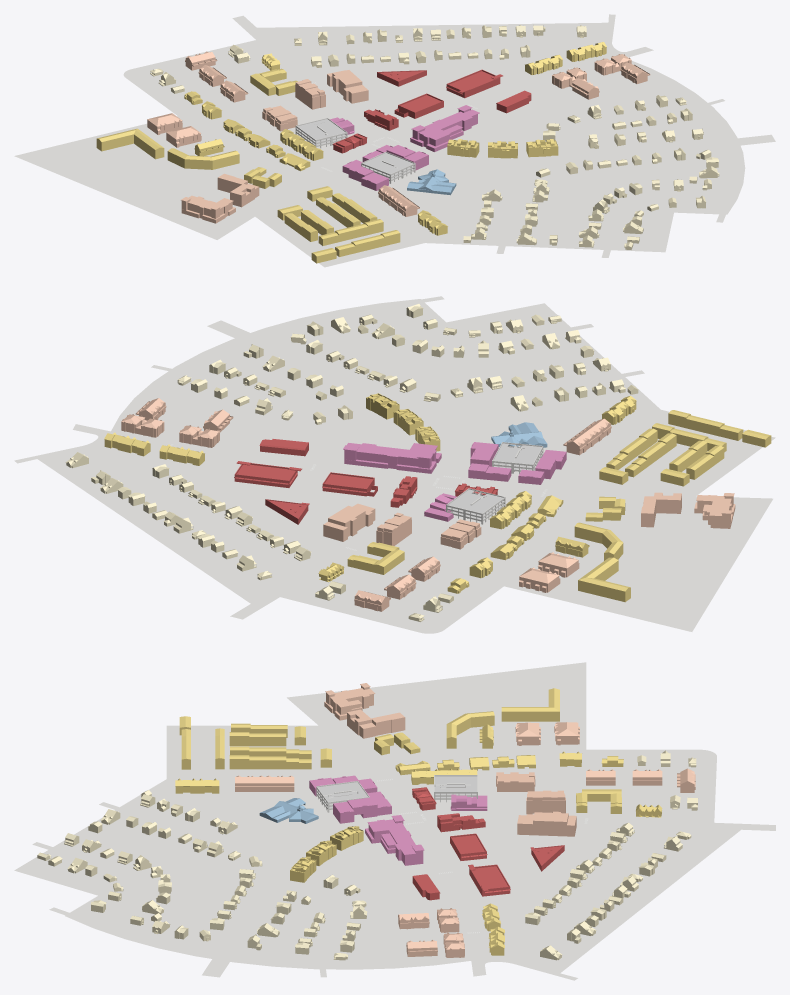
The model's file is Neighborhood2_CC.glb.
3 views of the same model, one above another, from view 1: azimuth 30°, elevation 25°; view 2: azimuth 150°, elevation 25°; view 3: azimuth 270°, elevation 25° (orthographic). The views are drawn at different scales.
Visible parts, largest first — view 1: Group1.006, Multifamily_2_1.001, Group11.006, Multifamily_2_1_1.002, Group12.006, Multifamily_7_1.002, retail3_1_1, Multifamily_8_1, tomehomes_3_1, tomehomes_3_2, church_1_1, retail2_1_1 (+12 smaller); view 2: Group1.006, Multifamily_2_1.001, Group11.006, Multifamily_7_1.002, retail3_1_1, Multifamily_2_1_1.002, tomehomes_3_2, retail2_1_1, Multifamily_8_1, Group12.006, church_1_1, tomehomes2 (+12 smaller); view 3: Group1.006, Multifamily_2_1.001, Multifamily_7_1.002, Multifamily_8_1, Multifamily_2_1_1.002, tomehomes1, Group11.006, Group83.004, retail3_1_1, church_1_1, Group12.006, Multifamily_6_3_1 (+6 smaller).
Part boxes in pixels (<box>): Group1.006: <box>14,14,775,267</box>; Multifamily_2_1.001: <box>410,105,479,151</box>; Group11.006: <box>96,128,164,159</box>; Multifamily_2_1_1.002: <box>181,195,235,223</box>; Group12.006: <box>167,148,239,169</box>; Multifamily_7_1.002: <box>327,70,368,103</box>; retail3_1_1: <box>446,69,502,98</box>; Multifamily_8_1: <box>217,173,259,207</box>; tomehomes_3_1: <box>318,219,383,245</box>; tomehomes_3_2: <box>335,230,400,256</box>; church_1_1: <box>407,169,456,195</box>; retail2_1_1: <box>394,93,443,118</box>; Group1.006: <box>14,296,775,633</box>; Multifamily_2_1.001: <box>343,443,441,473</box>; Group11.006: <box>578,557,630,602</box>; Multifamily_7_1.002: <box>323,503,375,541</box>; retail3_1_1: <box>234,461,301,487</box>; Multifamily_2_1_1.002: <box>694,493,735,528</box>; tomehomes_3_2: <box>668,410,743,440</box>; retail2_1_1: <box>322,472,377,496</box>; Multifamily_8_1: <box>641,492,681,527</box>; Group12.006: <box>574,522,623,560</box>; church_1_1: <box>491,422,547,447</box>; tomehomes2: <box>625,433,676,477</box>; Group1.006: <box>14,662,775,980</box>; Multifamily_2_1.001: <box>365,815,424,865</box>; Multifamily_7_1.002: <box>517,811,576,836</box>; Multifamily_8_1: <box>347,709,405,738</box>; Multifamily_2_1_1.002: <box>324,683,375,720</box>; tomehomes1: <box>229,755,311,769</box>; Group11.006: <box>501,688,559,721</box>; Group83.004: <box>333,797,391,823</box>; retail3_1_1: <box>468,864,510,896</box>; church_1_1: <box>259,798,318,823</box>; Group12.006: <box>446,711,494,748</box>; Multifamily_6_3_1: <box>526,790,565,814</box>.
Bounding box in the file's own units: 23.97 × 0.678 × 24.24.
